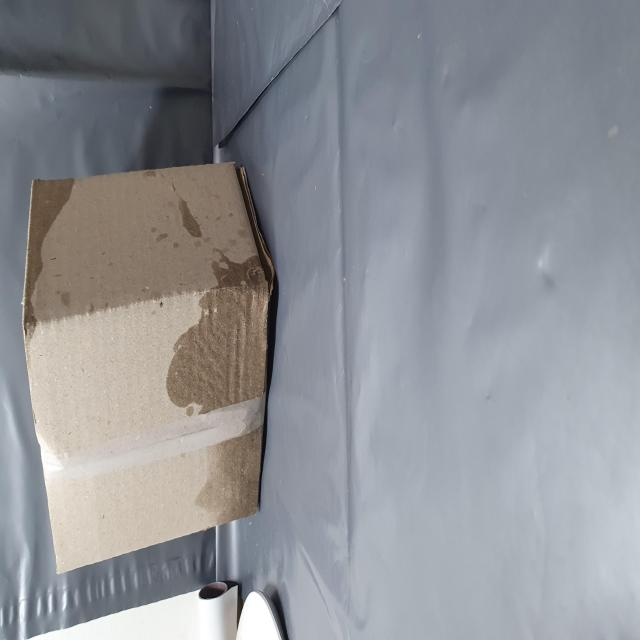wet: (61, 298, 218, 472), (170, 38, 271, 129)
